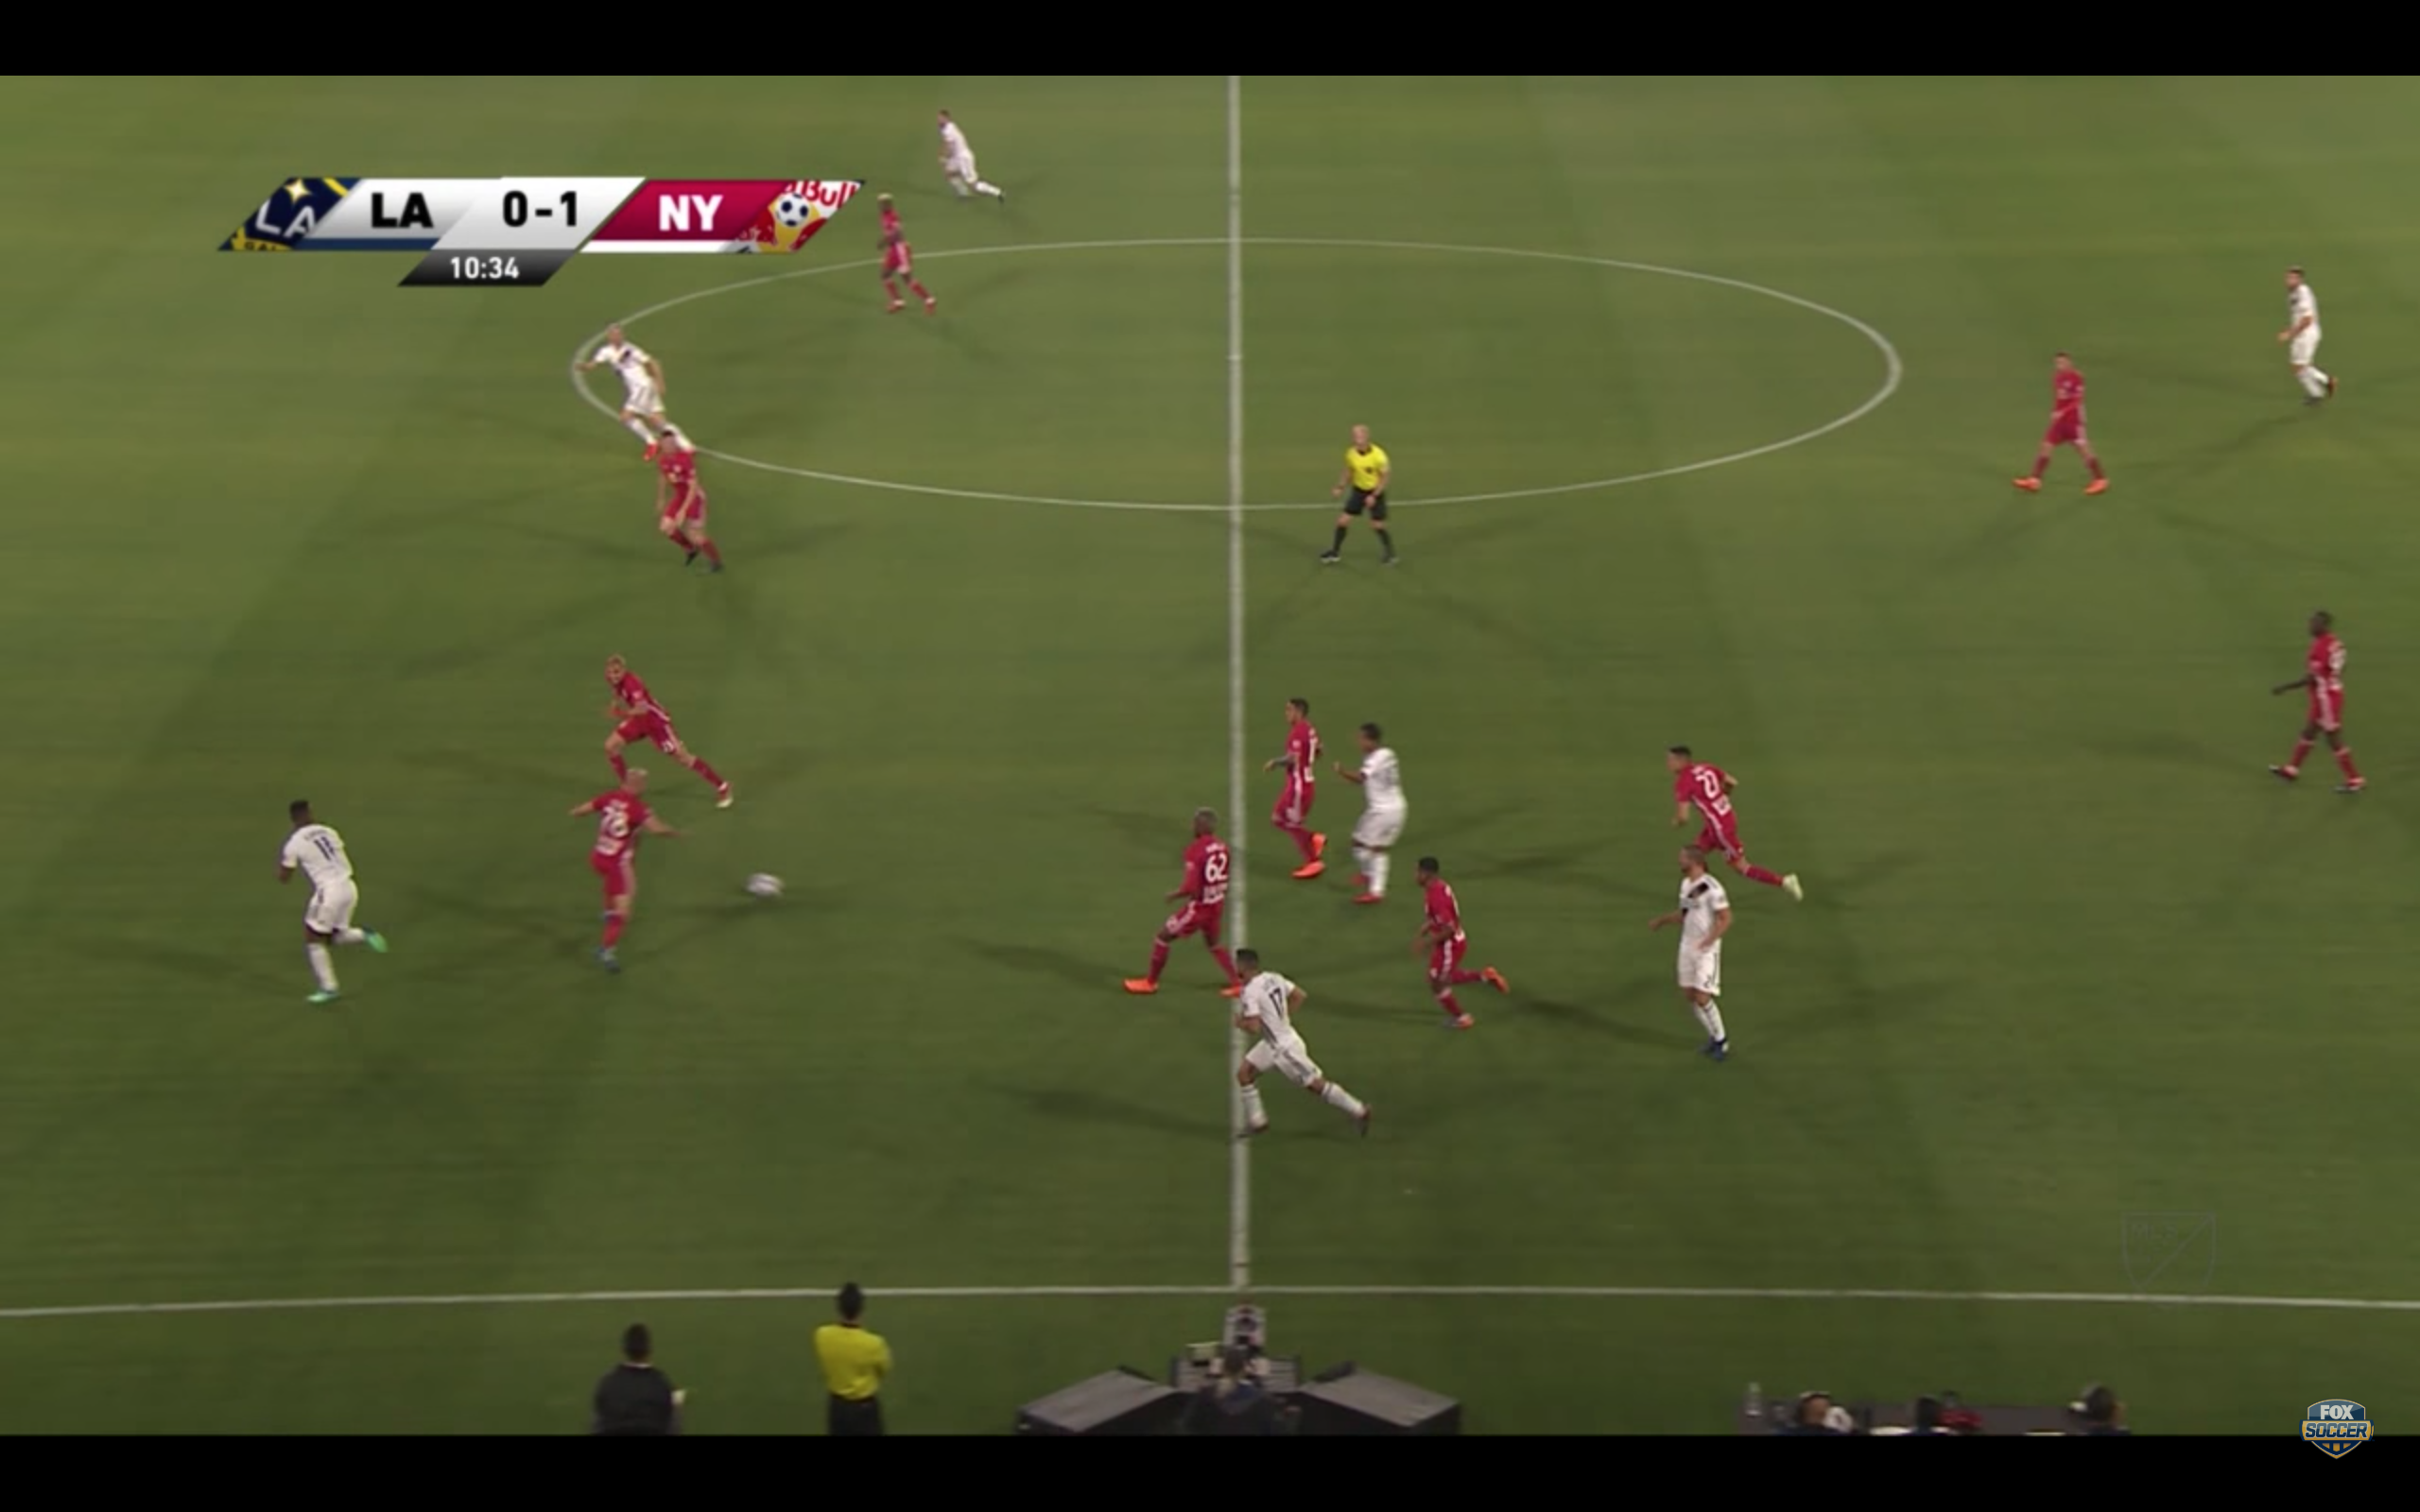referee: (1318, 413, 1408, 579)
soccer player: (1219, 936, 1379, 1146), (266, 788, 396, 1008), (1116, 801, 1252, 1004), (1655, 740, 1814, 909), (562, 761, 684, 975), (595, 651, 746, 819), (1651, 837, 1750, 1070), (2261, 594, 2363, 799), (567, 314, 702, 467), (1408, 848, 1510, 1039), (2003, 334, 2113, 505), (1259, 694, 1343, 885), (1336, 712, 1412, 914), (2256, 252, 2342, 413), (641, 434, 723, 579), (861, 188, 942, 321), (925, 99, 1009, 216)
soccerball: (746, 866, 784, 909)
